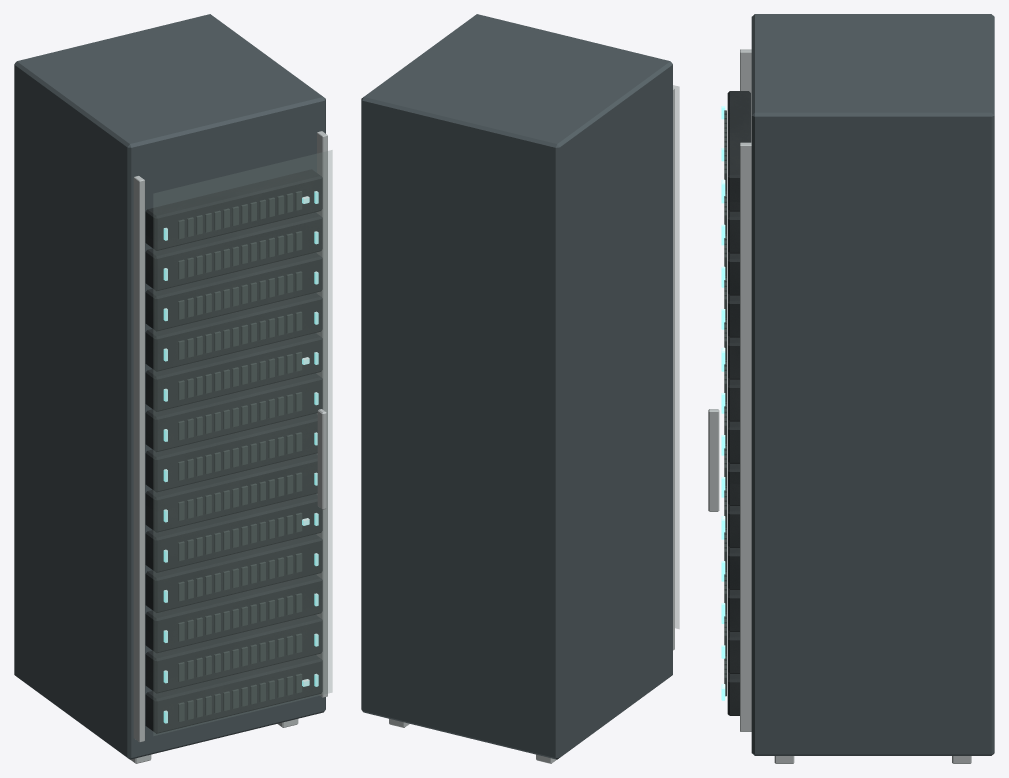
The model's file is ServerRack.glb.
3 renders of one model, left to right at view 1: azimuth 30°, elevation 25°; view 2: azimuth 150°, elevation 25°; view 3: azimuth 270°, elevation 25°, orthographic. The views are drawn at different scales.
Visible parts, largest first — view 1: ServerRack__BlackenedSteel__mesh, ServerRack__CabinetGlass__mesh, ServerRack__Powdercoat__mesh, ServerRack__Rubber__mesh, ServerRack__BrushedHardware__mesh, ServerRack__DGGreen__mesh; view 2: ServerRack__BlackenedSteel__mesh, ServerRack__CabinetGlass__mesh, ServerRack__BrushedHardware__mesh; view 3: ServerRack__BlackenedSteel__mesh, ServerRack__BrushedHardware__mesh, ServerRack__Powdercoat__mesh, ServerRack__Rubber__mesh, ServerRack__DGGreen__mesh.
Boxes of the visible parts, x1,y1,x2,y2 form: ServerRack__BlackenedSteel__mesh: (14,14,325,759); ServerRack__CabinetGlass__mesh: (153,150,332,735); ServerRack__Powdercoat__mesh: (145,169,322,733); ServerRack__Rubber__mesh: (178,191,302,722); ServerRack__BrushedHardware__mesh: (130,131,327,763); ServerRack__DGGreen__mesh: (163,191,318,723); ServerRack__BlackenedSteel__mesh: (361,14,672,759); ServerRack__CabinetGlass__mesh: (673,85,679,628); ServerRack__BrushedHardware__mesh: (389,87,674,763); ServerRack__BlackenedSteel__mesh: (751,14,994,755); ServerRack__BrushedHardware__mesh: (708,49,971,763); ServerRack__Powdercoat__mesh: (727,91,750,715); ServerRack__Rubber__mesh: (724,110,726,696); ServerRack__DGGreen__mesh: (721,106,725,700).
Bounding box in the file's own units: 0.77 × 2.34 × 0.9195.
7 materials, 1 textured.
